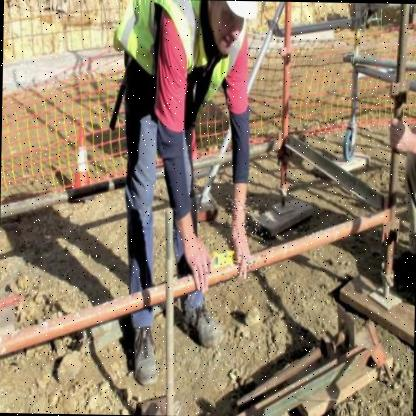bota: (127, 319, 162, 387), (177, 296, 221, 349)
